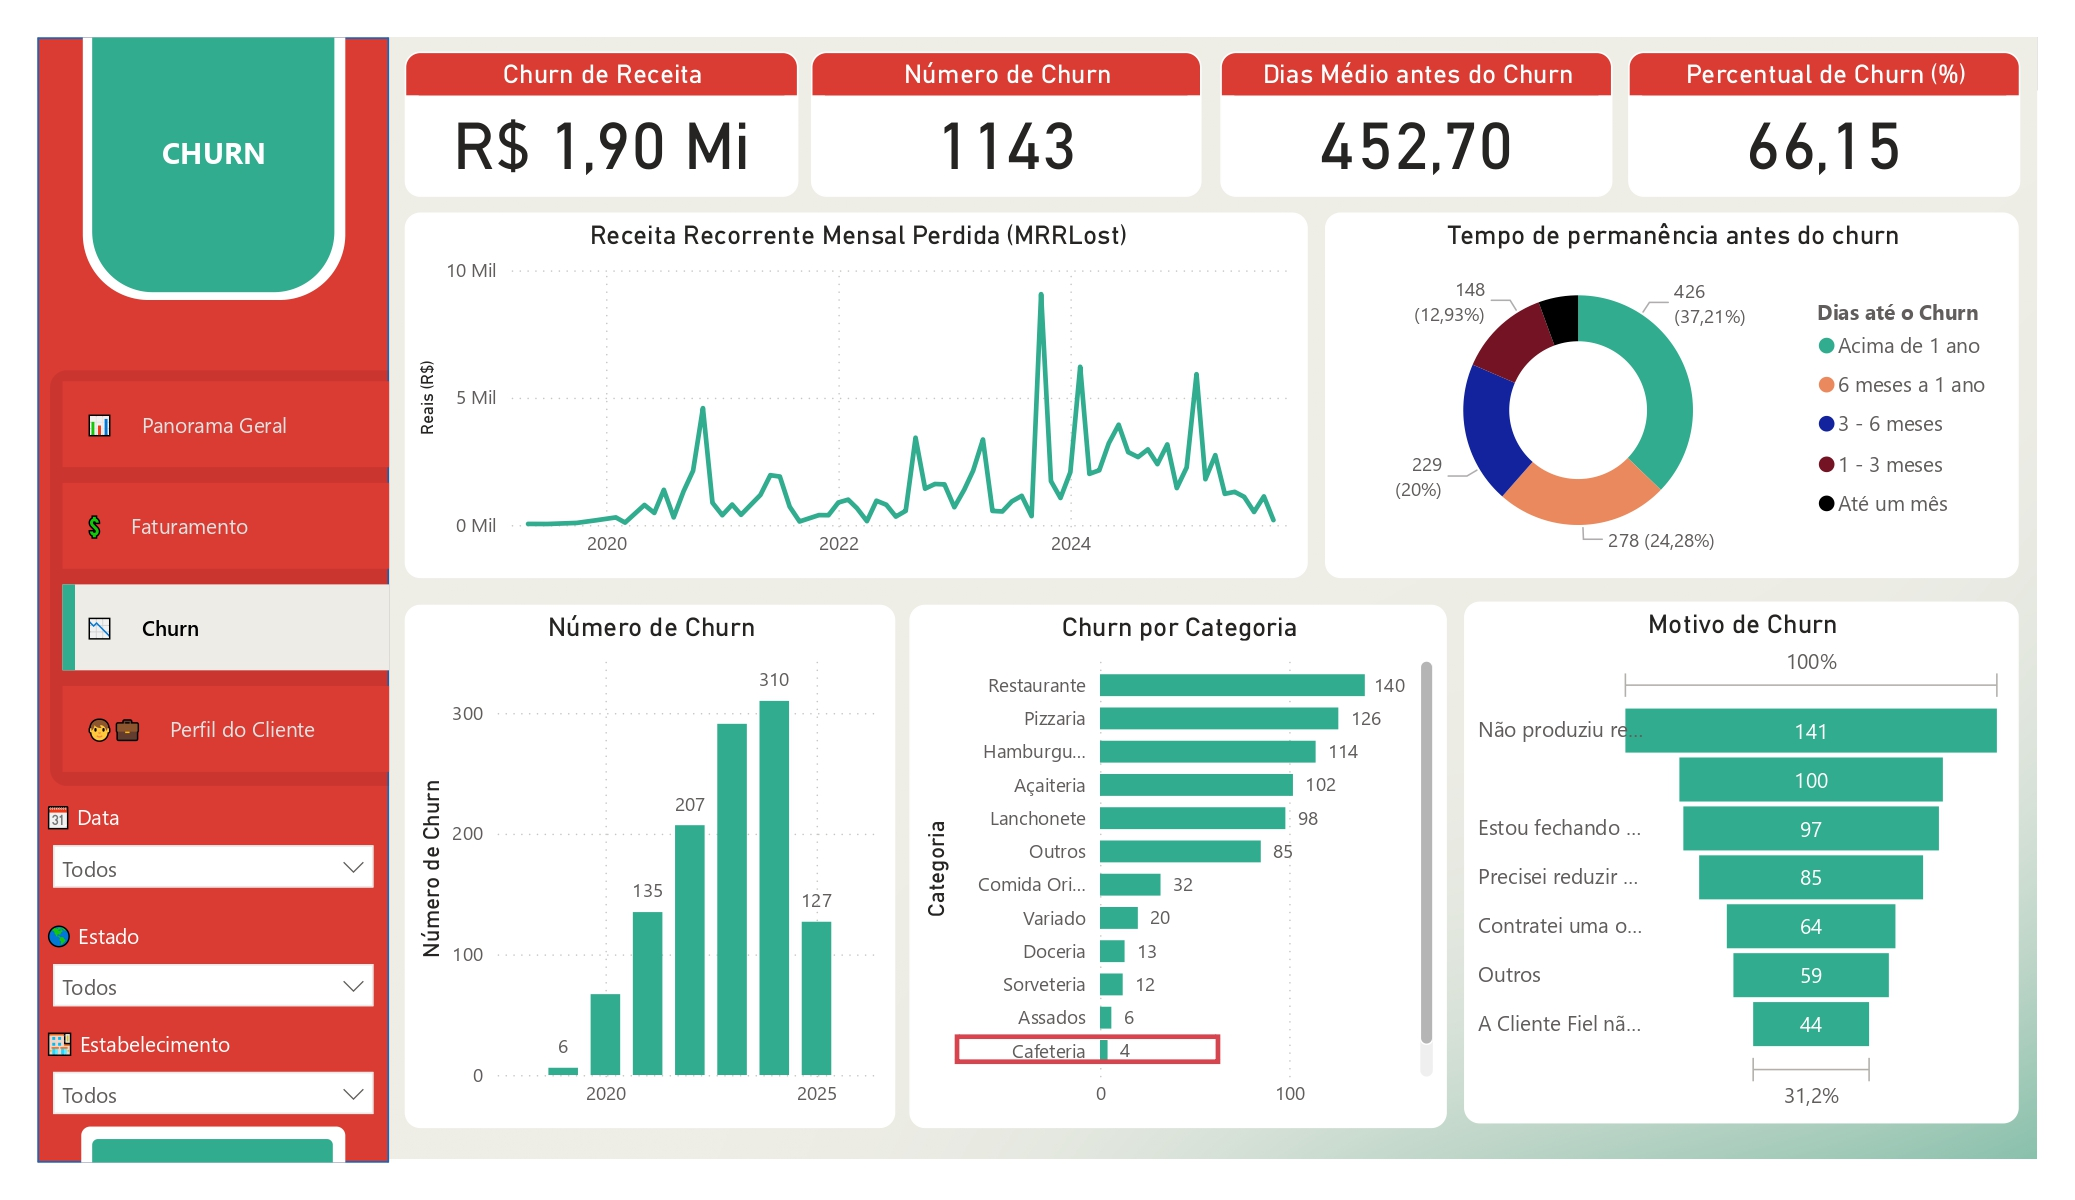

Layout of this report page (visuals, bound fields, positions):
{"tool":"powerbi","page":{"name":"📉     Churn","canvas":[1280,720],"ordinal":2},"visuals":[{"type":"clusteredColumnChart","title":"Número de Churn","fields":{"Category":["BASE_ASSINATURAS.DATA_CHURN.Variation.Hierarquia de datas.Ano","BASE_ASSINATURAS.DATA_CHURN.Variation.Hierarquia de datas.Mês"],"Y":["BASE_ASSINATURAS.Número de Churn"]},"box":[235.3,363.1,314.1,334.4],"z":0},{"type":"card","title":"Dias Médio antes do Churn","fields":{"Values":["Avg(BASE_ASSINATURAS.days of churn)"]},"box":[757,9,251,93],"z":1000},{"type":"card","title":"Número de Churn","fields":{"Values":["BASE_ASSINATURAS.num de churn"]},"box":[494.7,8.6,250.6,92.9],"z":2000},{"type":"card","title":"Percentual de Churn  (%)","fields":{"Values":["BASE_ASSINATURAS.churn rate"]},"box":[1018,9,251,93],"z":3000},{"type":"card","title":"Churn de Receita","fields":{"Values":["BASE_ASSINATURAS.perda_fat_churn"]},"box":[235.5,8.6,251.7,92.9],"z":4000},{"type":"donutChart","title":"Tempo de permanência antes do churn","fields":{"Category":["BASE_ASSINATURAS.DaysToChurnBucket"],"Y":["CountNonNull(BASE_ASSINATURAS.ASSINATURA_ID)"]},"box":[824.2,111.8,444.1,234.3],"z":5000},{"type":"barChart","title":"Churn por Categoria","fields":{"Category":["BASE_ASSINATURAS.CATEGORIA"],"Y":["BASE_ASSINATURAS.num de churn"]},"box":[558,363.1,344,334.4],"z":6000},{"type":"lineChart","title":"Receita Recorrente Mensal Perdida (MRRLost)","fields":{"Y":["BASE_ASSINATURAS.MRRLost"],"Category":["BASE_ASSINATURAS.DATA_CHURN.Variation.Hierarquia de datas.Ano","BASE_ASSINATURAS.DATA_CHURN.Variation.Hierarquia de datas.Trimestre","BASE_ASSINATURAS.DATA_CHURN.Variation.Hierarquia de datas.Mês","BASE_ASSINATURAS.DATA_CHURN.Variation.Hierarquia de datas.Dia"]},"box":[235.3,111.8,577.2,234.3],"z":7000},{"type":"shape","title":"Background Menus","box":[0,0,225,720],"z":8000},{"type":"shape","box":[28.7,0,168,168],"z":9000},{"type":"shape","box":[28,697,169,23],"z":10000},{"type":"shape","box":[7.5,212.5,217.5,266.7],"z":11000},{"type":"shape","box":[35,0,155,163],"z":12000},{"type":"shape","box":[35,705,154,15],"z":13000},{"type":"pageNavigator","title":"Menu de Navegação","box":[16,220,209,252],"z":14000},{"type":"slicer","title":"🌎 Estado","fields":{"Values":["BASE_ASSINATURAS.UF"]},"box":[0,566,225,77],"z":15000},{"type":"slicer","title":"🏬 Estabelecimento","fields":{"Values":["MOVIMENTACAO_CLIENTES.ESTABELECIMENTO"]},"box":[0,635,225,76],"z":16000},{"type":"image","box":[47,8,131,131],"z":17000},{"type":"slicer","title":"🗓️ Data","fields":{"Values":["BASE_ASSINATURAS.DATA_CHURN"]},"box":[0,490,225,75.8],"z":18000},{"type":"funnel","title":"Motivo de Churn","fields":{"Category":["Encerramento de Contrato - Cliente Fiel (Responses)_traatadoo.Motivo do Encerramento"],"Y":["CountNonNull(Encerramento de Contrato - Cliente Fiel (Responses)_traatadoo.Motivo do Encerramento)"]},"box":[912.6,361,355.7,334.4],"z":18001}]}

Visuals, with their boxes on the page's 1280x720 design canvas (x1, y1, x2, y2). These are canvas units, not pixel positions in the 2075x1200 screenshot, which may show the page scaled, cropped or inside an application window:
"Número de Churn" clusteredColumnChart: crop(235, 363, 549, 698)
"Dias Médio antes do Churn" card: crop(757, 9, 1008, 102)
"Número de Churn" card: crop(495, 9, 745, 102)
"Percentual de Churn  (%)" card: crop(1018, 9, 1269, 102)
"Churn de Receita" card: crop(236, 9, 487, 102)
"Tempo de permanência antes do churn" donutChart: crop(824, 112, 1268, 346)
"Churn por Categoria" barChart: crop(558, 363, 902, 698)
"Receita Recorrente Mensal Perdida (MRRLost)" lineChart: crop(235, 112, 812, 346)
"Background Menus" shape: crop(0, 0, 225, 720)
shape: crop(29, 0, 197, 168)
shape: crop(28, 697, 197, 720)
shape: crop(8, 212, 225, 479)
shape: crop(35, 0, 190, 163)
shape: crop(35, 705, 189, 720)
"Menu de Navegação" pageNavigator: crop(16, 220, 225, 472)
"🌎 Estado" slicer: crop(0, 566, 225, 643)
"🏬 Estabelecimento" slicer: crop(0, 635, 225, 711)
image: crop(47, 8, 178, 139)
"🗓️ Data" slicer: crop(0, 490, 225, 566)
"Motivo de Churn" funnel: crop(913, 361, 1268, 695)
